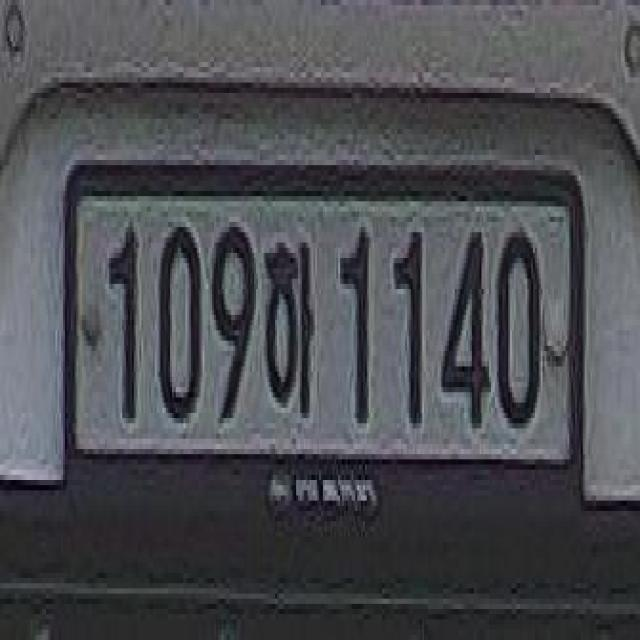illegal_plate: (64, 149, 584, 516)
